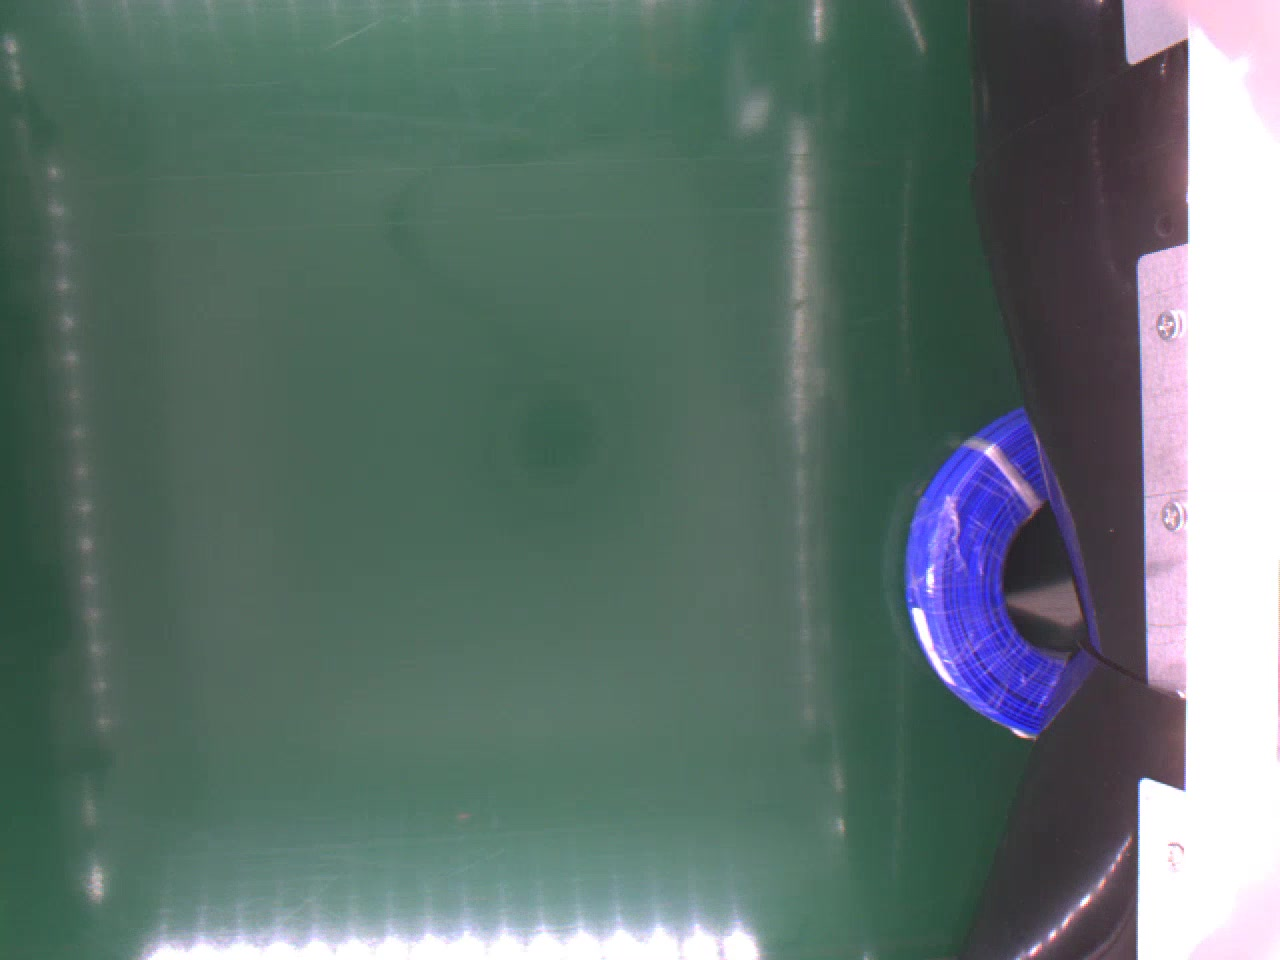blue: (905, 402, 1083, 738)
